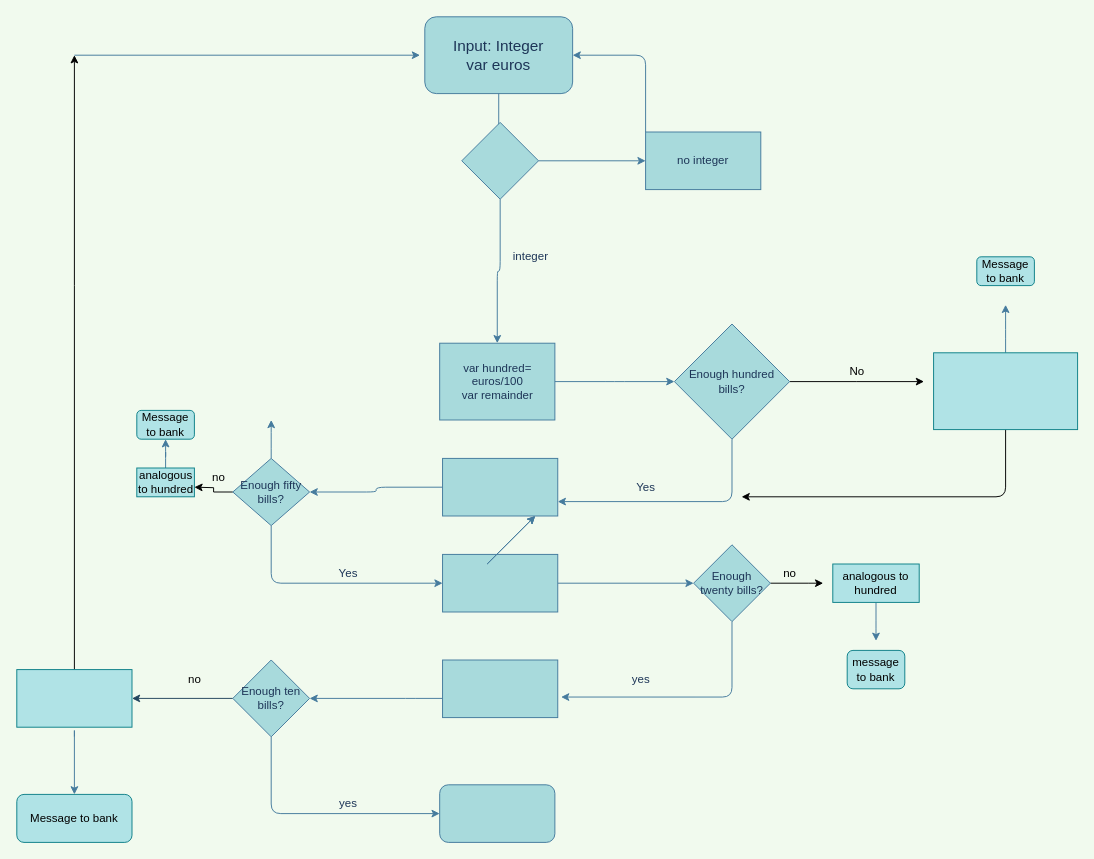
The diagram is 1094 pixels wide and 859 high, and some of its shapes have lost their labels. Each missing label, with the centre of its shape:
"check euros/10" belongs at (500,160).
"hundred = hundredleft remainder = hundred-hundredleft" belongs at (1005,391).
"OUTPUT: Not enough notes" belongs at (74,698).
"Output: Notes=[hundred, fifthy, twenty, ten]" belongs at (497,813).
"var fifthy=remainder/50" belongs at (500,486).
"var ten= remainder/10" belongs at (500,688).
"var twenty=remainder/20" belongs at (500,582).
